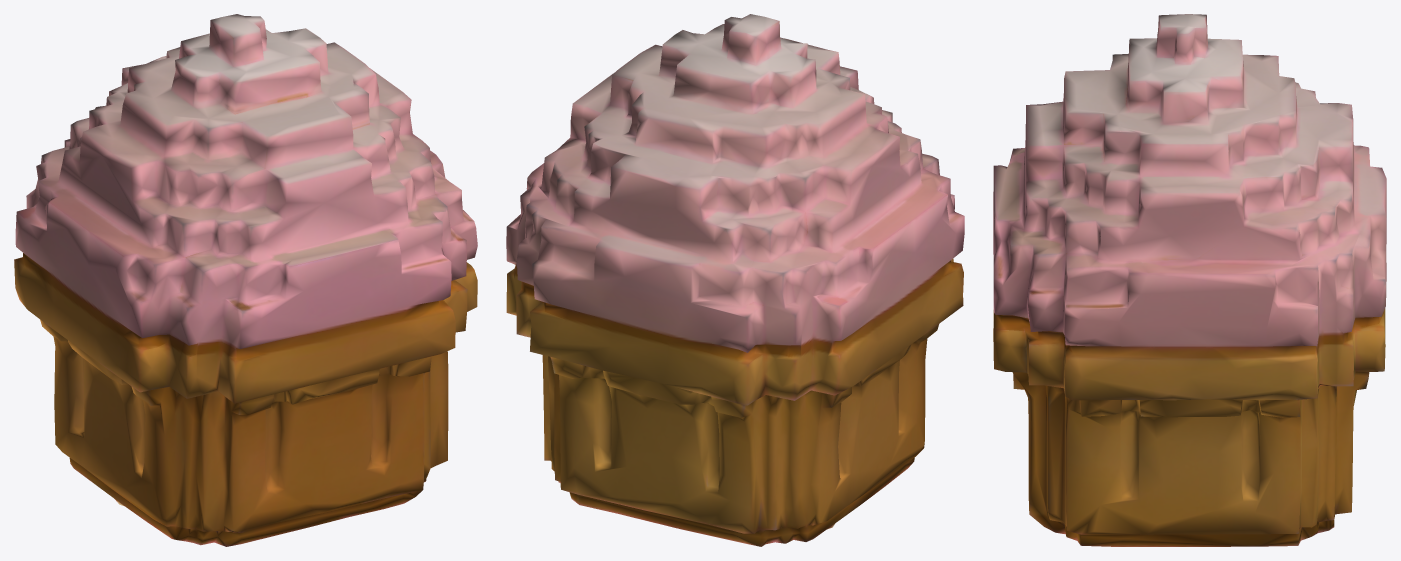
File: CupcakeCheckpoint.obj
3 renders of one model, left to right at view 1: azimuth 30°, elevation 25°; view 2: azimuth 150°, elevation 25°; view 3: azimuth 270°, elevation 25°, orthographic.
Visible parts, largest first — view 1: input; view 2: input; view 3: input.
Boxes of the visible parts, x1,y1,x2,y2 form: input: (14,14,477,546); input: (506,14,964,546); input: (993,14,1386,546).
Bounding box in the file's own units: 4.51 × 6 × 4.51.
1 material, 1 textured.
